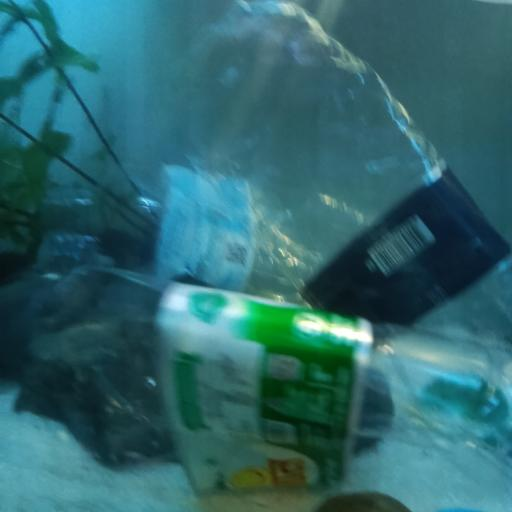plastic_bottle: (170, 0, 512, 351), (71, 265, 512, 502), (43, 164, 469, 299)
